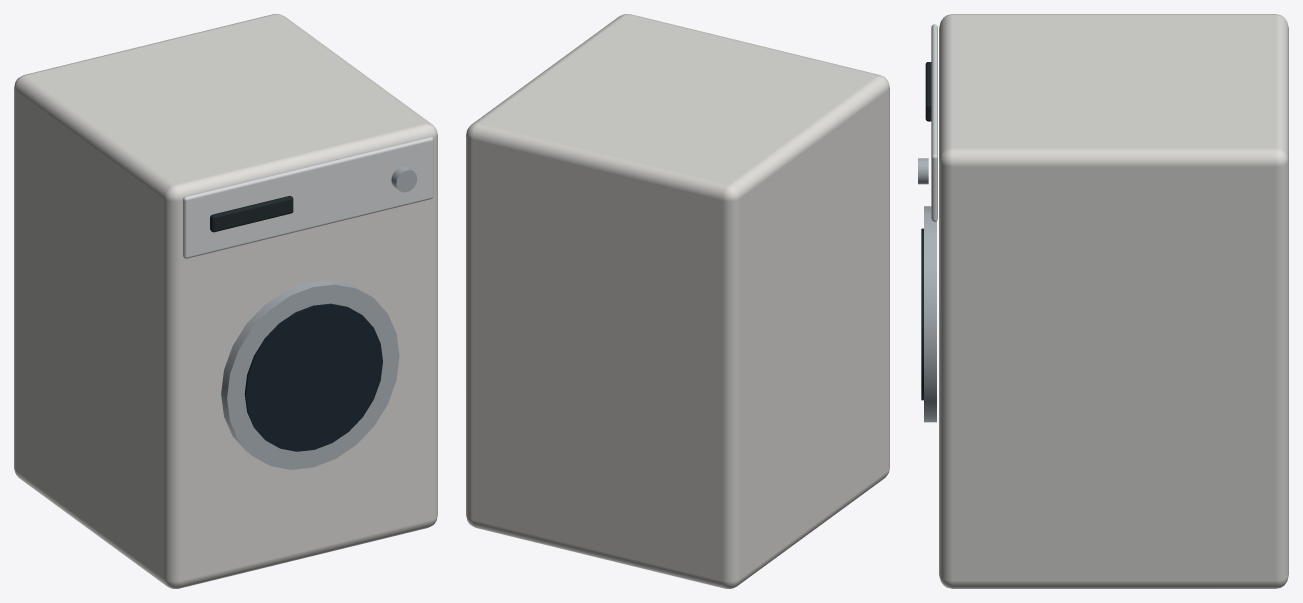
Rendered from washingMachine.glb.
The picture shows the model from 3 angles, left to right: view 1: azimuth 30°, elevation 25°; view 2: azimuth 150°, elevation 25°; view 3: azimuth 270°, elevation 25°; orthographic projection. The views are drawn at different scales.
Visible parts, largest first — view 1: washingMachine-part-1, washingMachine-part-4, washingMachine-part-2, washingMachine-part-3, washingMachine-part-5; view 2: washingMachine-part-1; view 3: washingMachine-part-1, washingMachine-part-3, washingMachine-part-2, washingMachine-part-4.
Part boxes in pixels (x1,y1,x2,y2): washingMachine-part-1: [14, 14, 437, 588]; washingMachine-part-4: [244, 303, 382, 451]; washingMachine-part-2: [183, 137, 433, 258]; washingMachine-part-3: [221, 280, 399, 469]; washingMachine-part-5: [210, 196, 293, 232]; washingMachine-part-1: [466, 14, 889, 588]; washingMachine-part-1: [939, 14, 1288, 588]; washingMachine-part-3: [924, 206, 936, 422]; washingMachine-part-2: [931, 24, 937, 221]; washingMachine-part-4: [921, 228, 923, 400].
Bounding box in the file's own units: 0.3 × 0.425 × 0.325.
